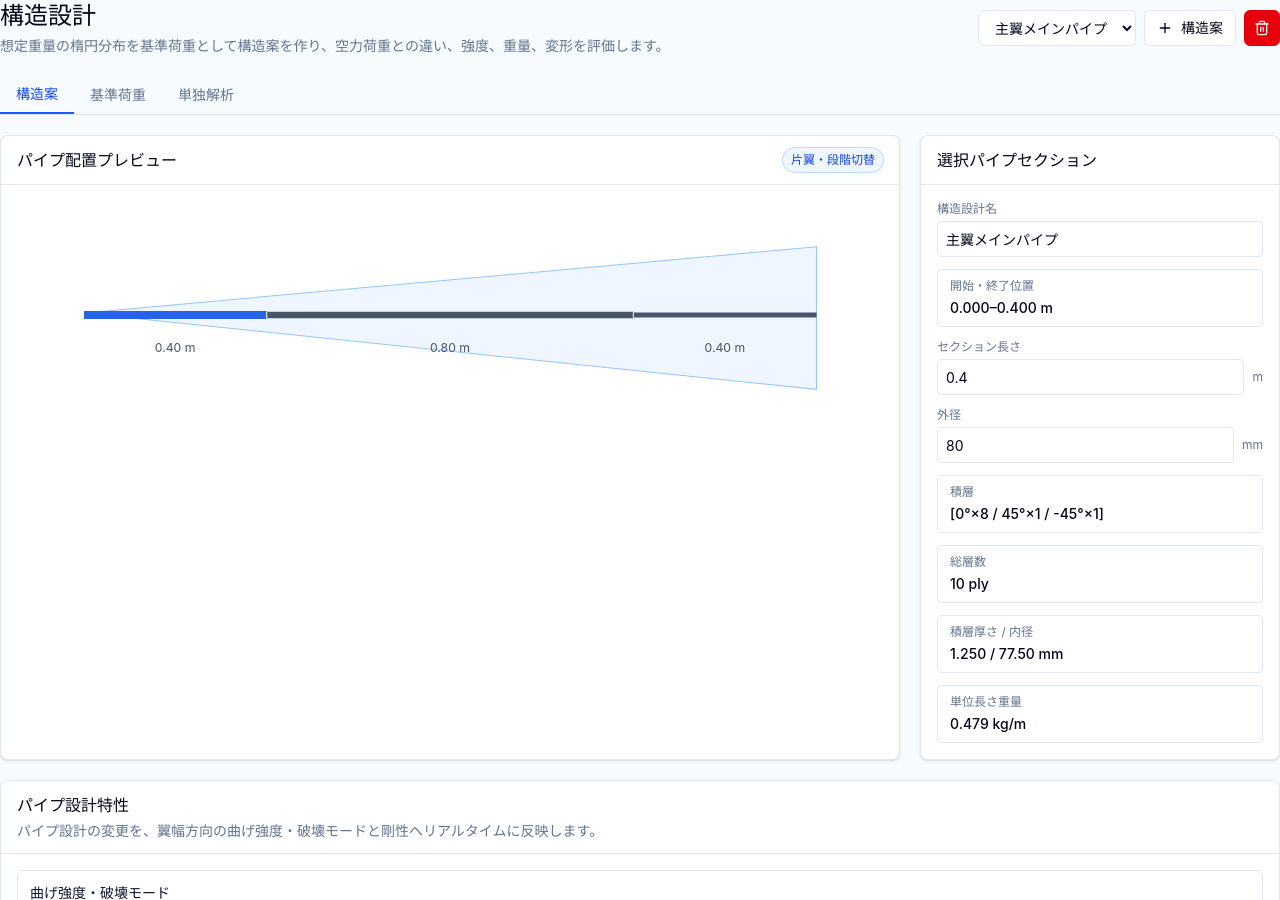
Scenario: StructuresPage › organizes structural concepts, baseline loads, and uncoupled analysis as one design workspace
The image size is (1280, 900).
Step 1. Click the tab "基準荷重" → click(118, 95), box [74, 76, 162, 114]
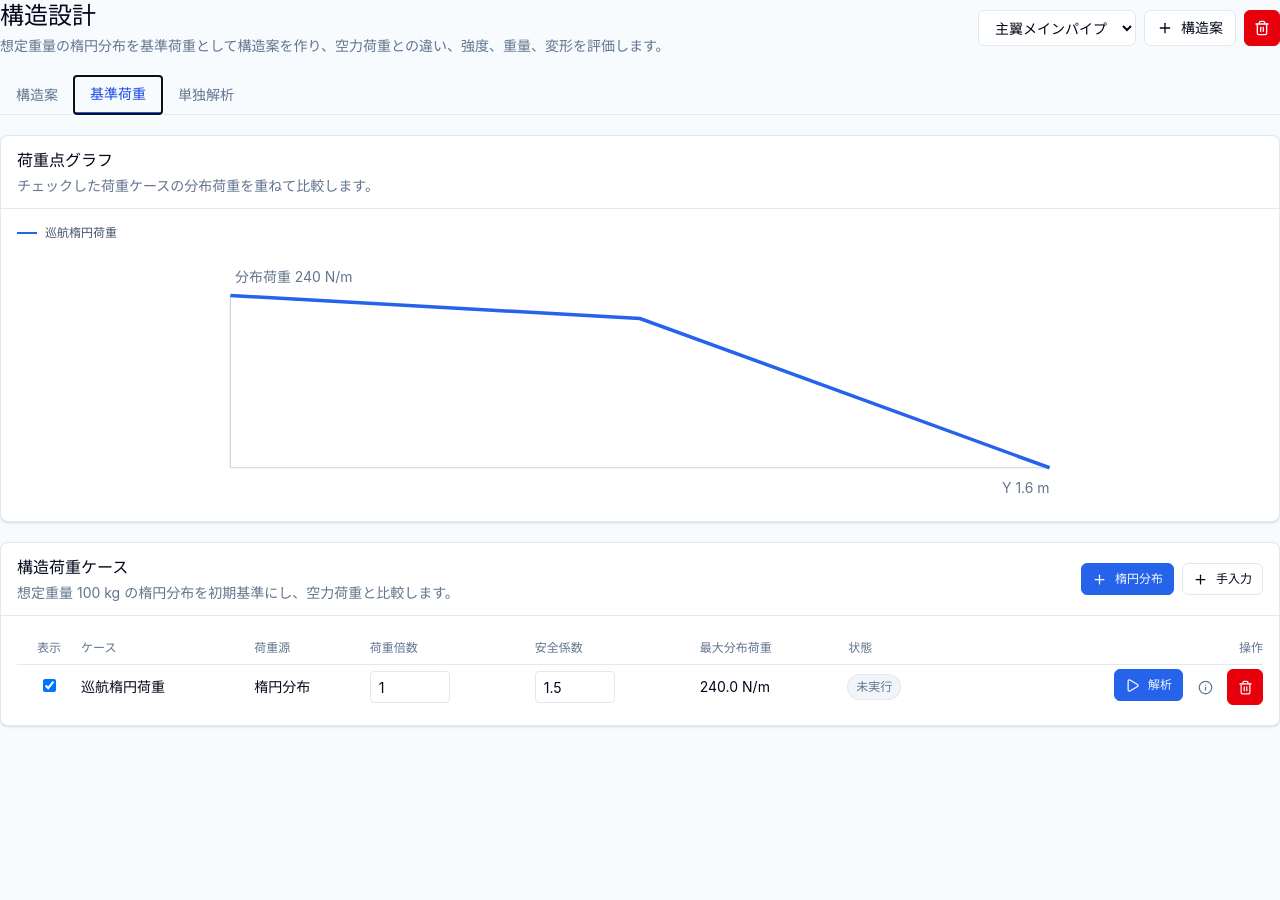
Expected: the heading "構造荷重ケース" is shown, [17, 557, 128, 577]
Expected: the checkbox named "巡航楕円荷重をグラフに表示" is shown, [42, 679, 56, 692]
